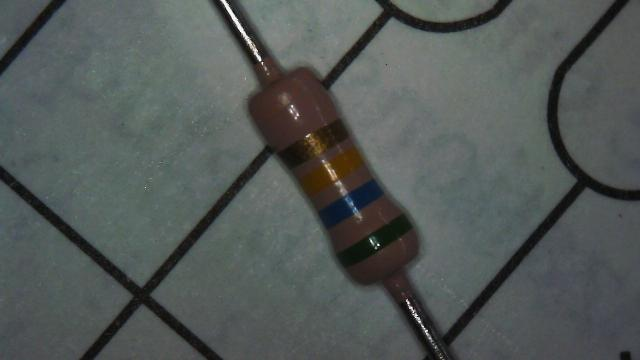blue: (319, 179, 384, 228)
gold: (276, 120, 348, 168)
green: (337, 213, 412, 268)
resistor: (217, 38, 437, 307)
yellow: (302, 148, 362, 192)
